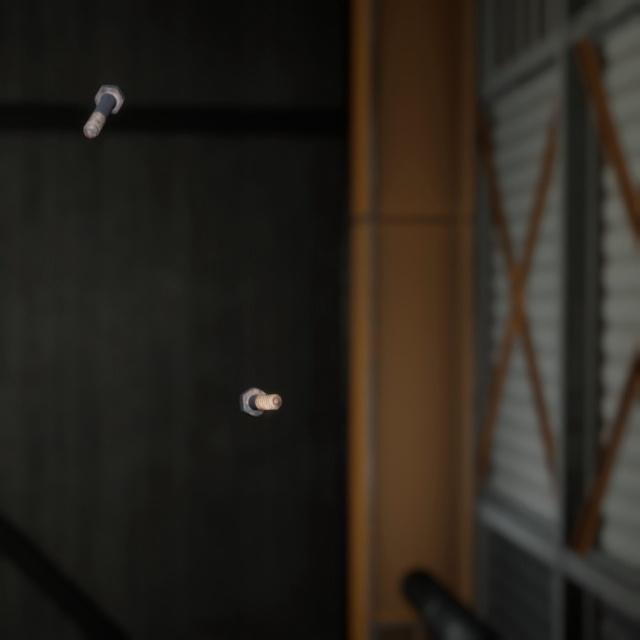bolt: (78, 68, 129, 131), (235, 363, 286, 401)
